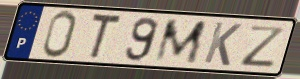0: (42, 9, 78, 60)
9: (123, 16, 159, 63)
K: (201, 20, 244, 68)
M: (152, 18, 210, 65)
T: (89, 11, 124, 62)
Z: (239, 24, 289, 69)
